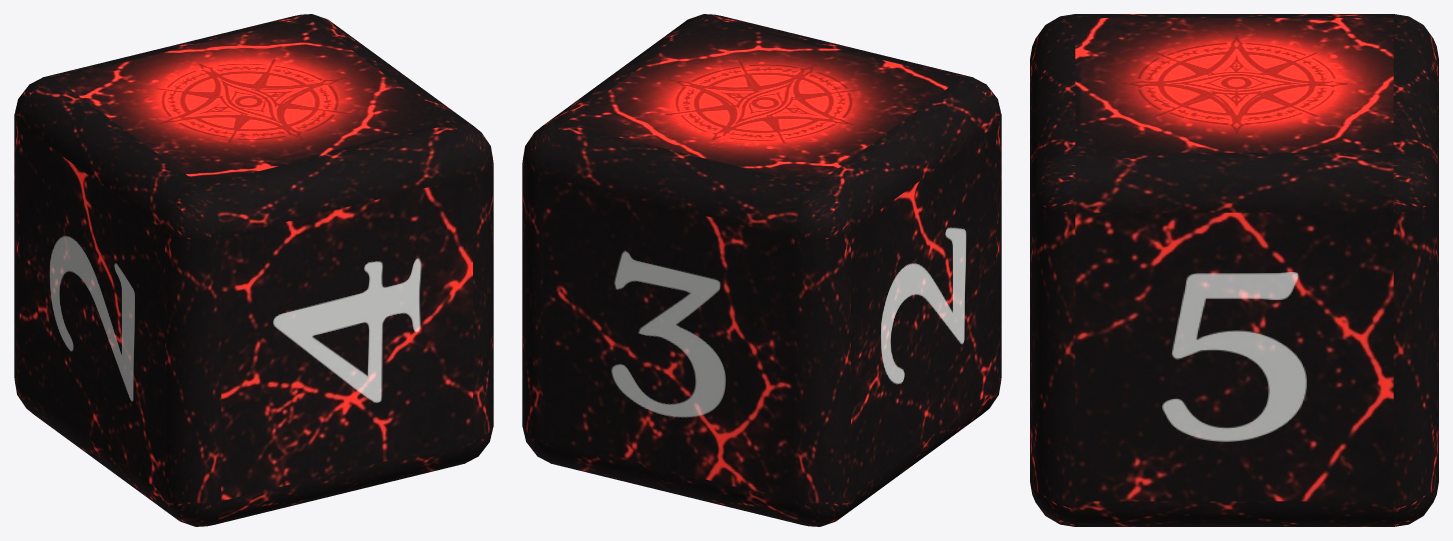
3 renders of one model, left to right at view 1: azimuth 30°, elevation 25°; view 2: azimuth 150°, elevation 25°; view 3: azimuth 270°, elevation 25°, orthographic. The views are drawn at different scales.
Parts seen in each view (by area): view 1: d6; view 2: d6; view 3: d6.
Part boxes in pixels (x1=…): d6: x1=14, y1=14, x2=493, y2=526; d6: x1=522, y1=14, x2=1001, y2=526; d6: x1=1030, y1=14, x2=1438, y2=526.
Bounding box in the file's own units: 104 × 104 × 104.
Materials: 1 (1 with a texture image).
